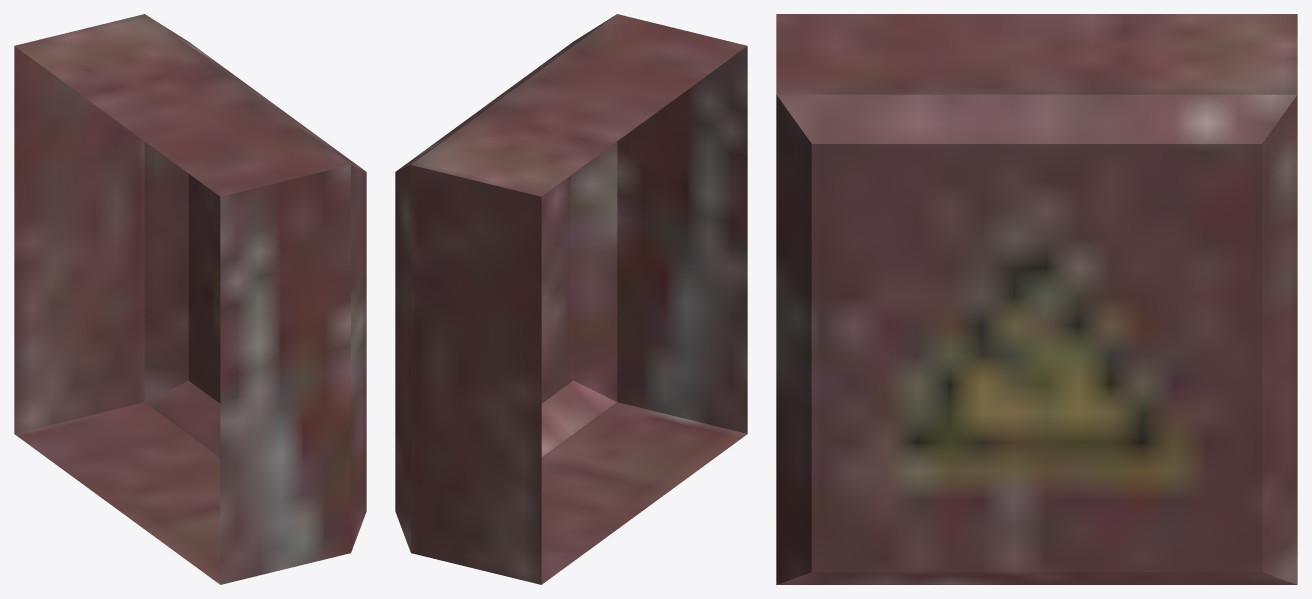
Rendered from Light_FuseBox.FBX.
3 renders of one model, left to right at view 1: azimuth 30°, elevation 25°; view 2: azimuth 150°, elevation 25°; view 3: azimuth 270°, elevation 25°, orthographic. The views are drawn at different scales.
Visible parts, largest first — view 1: Light_FuseBox; view 2: Light_FuseBox; view 3: Light_FuseBox.
Part boxes in pixels (<box>): Light_FuseBox: <box>14,14,366,584</box>; Light_FuseBox: <box>395,14,747,584</box>; Light_FuseBox: <box>776,14,1297,584</box>.
Bounding box in the file's own units: 7.64 × 17.68 × 17.02.
